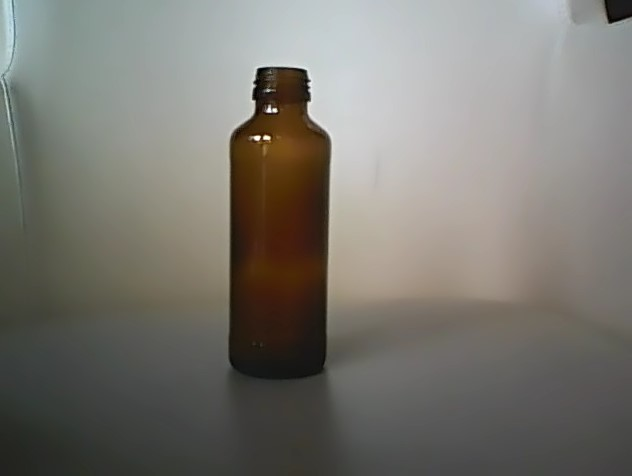Glass: (225, 62, 331, 382)
